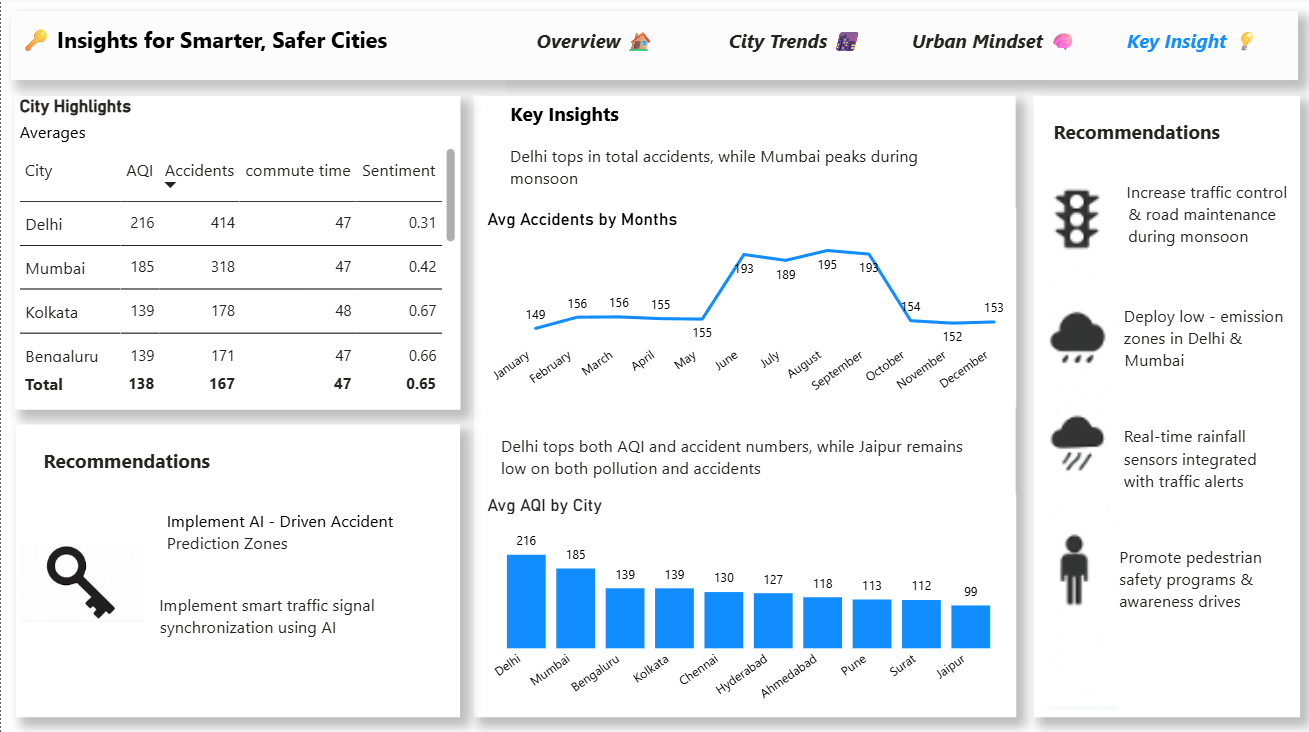

The dashboard page shown, as its layout file describes it:
{"tool":"powerbi","page":{"name":"Key Insight 💡","canvas":[1280,720],"ordinal":3},"visuals":[{"type":"shape","box":[9.9,13.6,1259.3,67.9],"z":0},{"type":"textbox","box":[462.2,96.6,530.7,607.7],"z":1000},{"type":"pivotTable","title":"City Highlights","fields":{"Rows":["Data.City"],"Values":["Data.Avg AQI","Data.Avg Accidents","Data.Avg commute time","Avg(Data.Public_Sentiment)"]},"box":[13.6,96.3,435.8,307.4],"z":2000},{"type":"lineChart","title":"Avg Accidents by Months","fields":{"Category":["Date Table.Month Name"],"Y":["Data.Avg Accidents"]},"box":[470.8,206.7,522.1,194.4],"z":3000},{"type":"clusteredColumnChart","fields":{"Category":["Data.City"],"Y":["Data.Avg AQI"]},"box":[470.8,486.7,522.1,217.7],"z":4000},{"type":"textbox","box":[1010.1,96.6,260.5,607.7],"z":5000},{"type":"textbox","box":[14.8,418.5,434.6,286.4],"z":6000},{"type":"image","box":[13.6,509.9,130.9,125.9],"z":7000},{"type":"pageNavigator","box":[482.7,13.6,781.5,59.3],"z":8000},{"type":"textbox","box":[14.8,22.2,479,74.1],"z":9000},{"type":"image","box":[908.6,177.3,299.6,527],"z":10000}]}

Visuals, with their boxes in screenshot pixels (x1, y1, x2, y2), scaled from the page's 1280x720 canvas onto the 1309x732 screenshot:
shape: pyautogui.locateOnScreen(10, 14, 1298, 83)
textbox: pyautogui.locateOnScreen(473, 98, 1015, 716)
"City Highlights" pivotTable: pyautogui.locateOnScreen(14, 98, 460, 410)
"Avg Accidents by Months" lineChart: pyautogui.locateOnScreen(481, 210, 1015, 408)
clusteredColumnChart - Data.City x Data.Avg AQI: pyautogui.locateOnScreen(481, 495, 1015, 716)
textbox: pyautogui.locateOnScreen(1033, 98, 1299, 716)
textbox: pyautogui.locateOnScreen(15, 425, 460, 717)
image: pyautogui.locateOnScreen(14, 518, 148, 646)
pageNavigator: pyautogui.locateOnScreen(494, 14, 1293, 74)
textbox: pyautogui.locateOnScreen(15, 23, 505, 98)
image: pyautogui.locateOnScreen(929, 180, 1236, 716)
